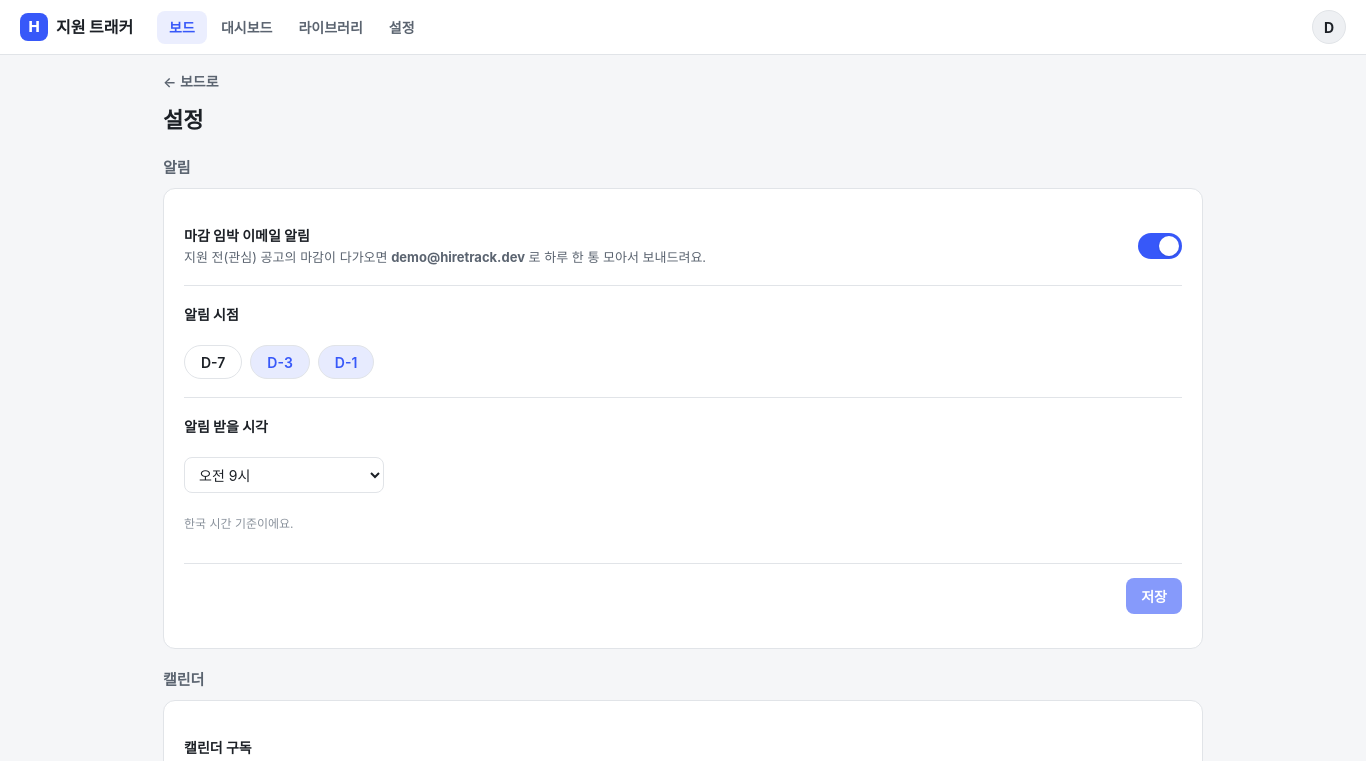
it: 설정 · 마감 알림 › 저장에 실패하면 이유를 알려주고 고친 값은 그대로 둔다
Expected: the text "demo@hiretrack.dev" is shown, [391, 248, 525, 264]
Click the 2nd checkbox labelled "D-7" at (213,362), box [184, 345, 242, 379]
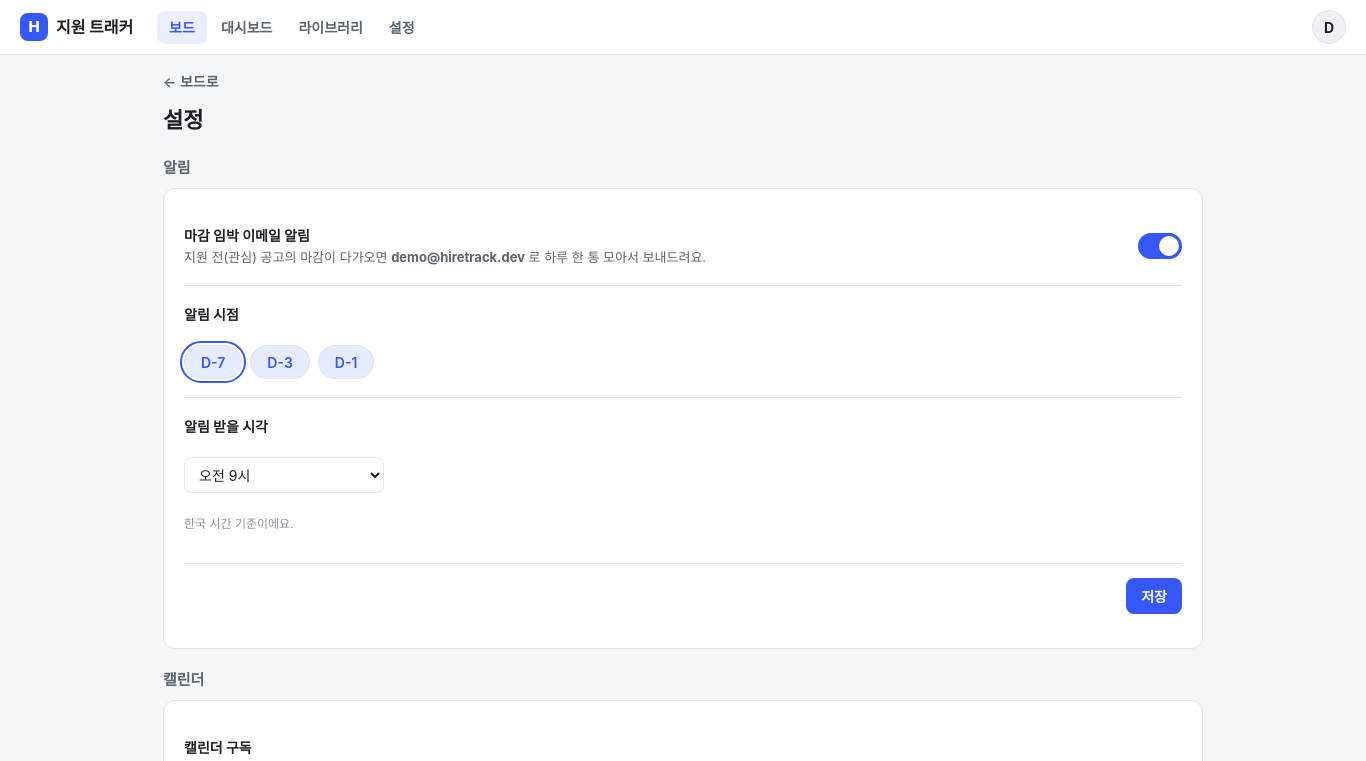
Click the button "저장" at (1154,596), box [1126, 578, 1182, 614]
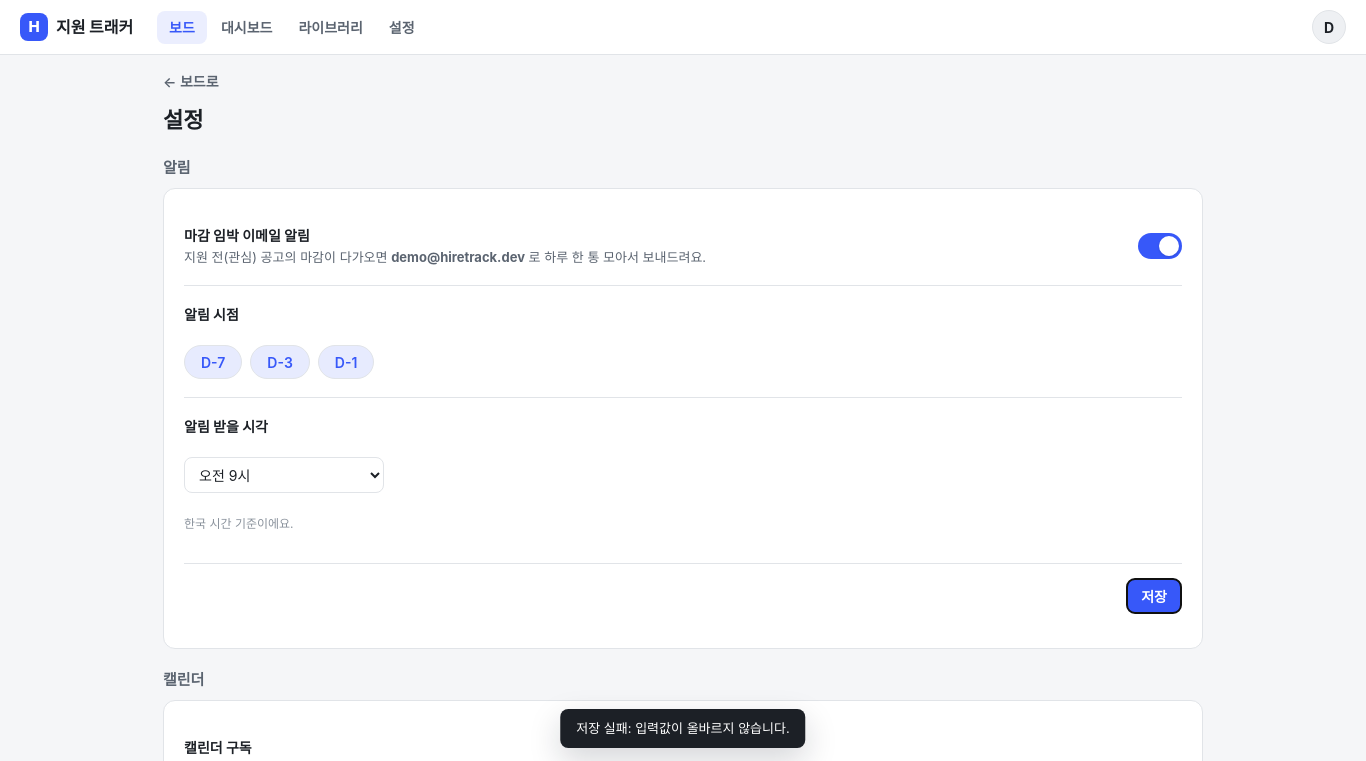
Expected: the button "저장" is enabled, [1126, 578, 1182, 614]
Expected: the text "저장 실패: 입력값이 올바르지 않습니다." is shown, [560, 708, 806, 748]
